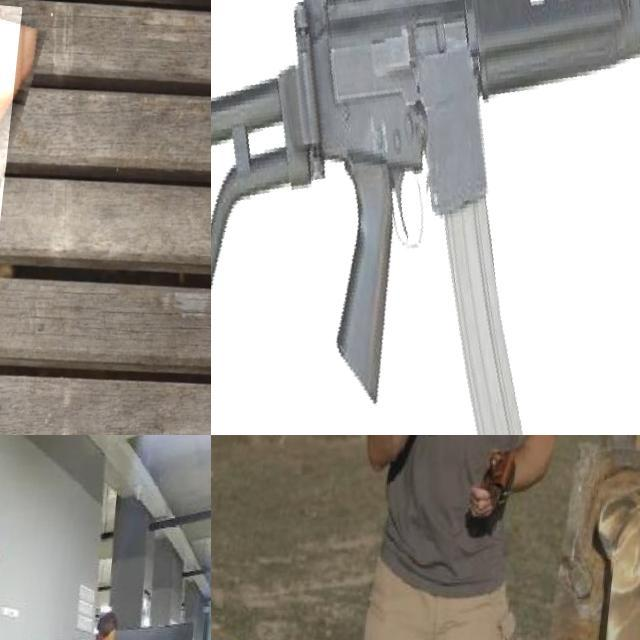-: (0, 0, 121, 435), (0, 137, 59, 435), (413, 435, 497, 528)
gun-knife-thesis - v11 Yolov5 augmented: (211, 0, 640, 435)
